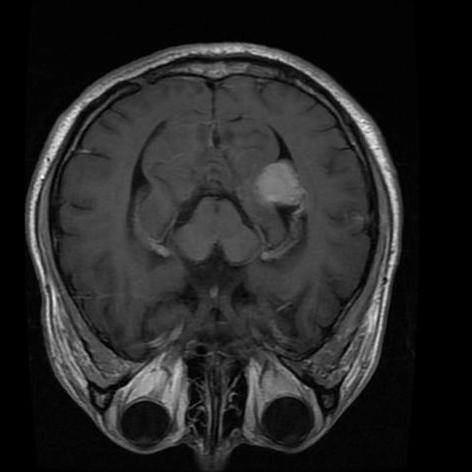Tumour-Pituitary: (223, 148, 323, 224)
